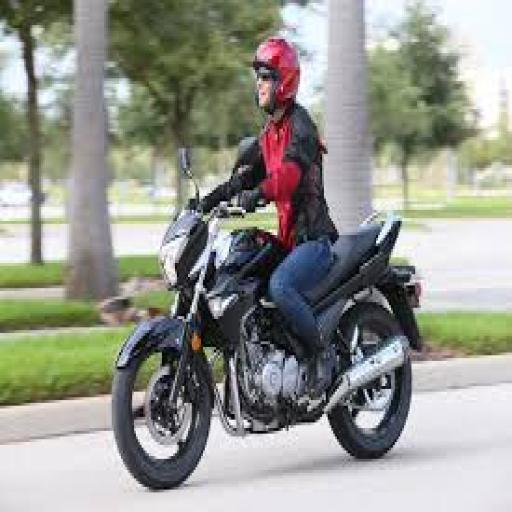helmet: (108, 142, 424, 490), (188, 33, 339, 389), (249, 33, 300, 112)
